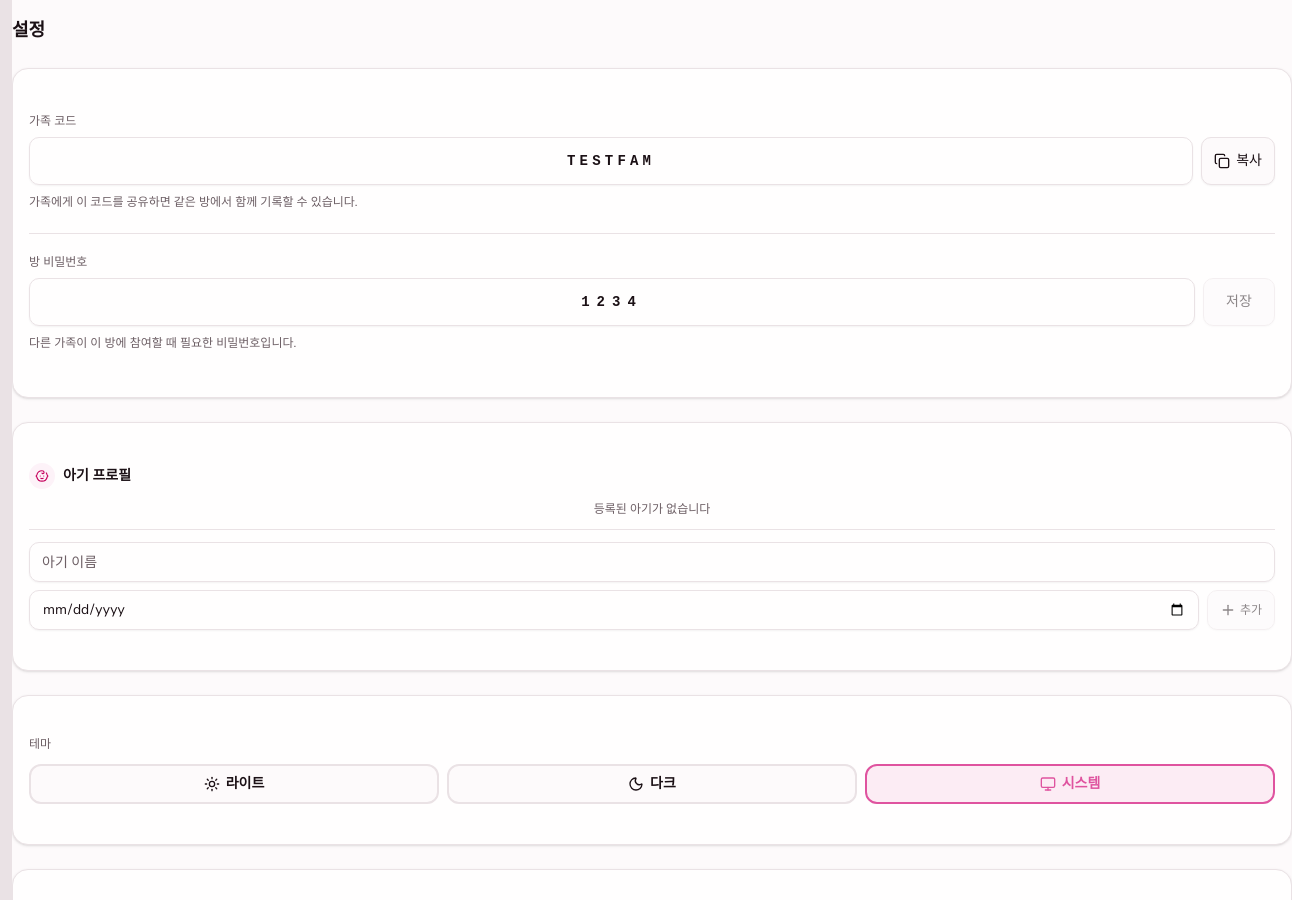
SettingsPage › shows 복사됨 after clicking copy button
The width and height of the screenshot is (1292, 900).
Click the button "복사". click: [1238, 161]
box: [1201,137,1275,185]
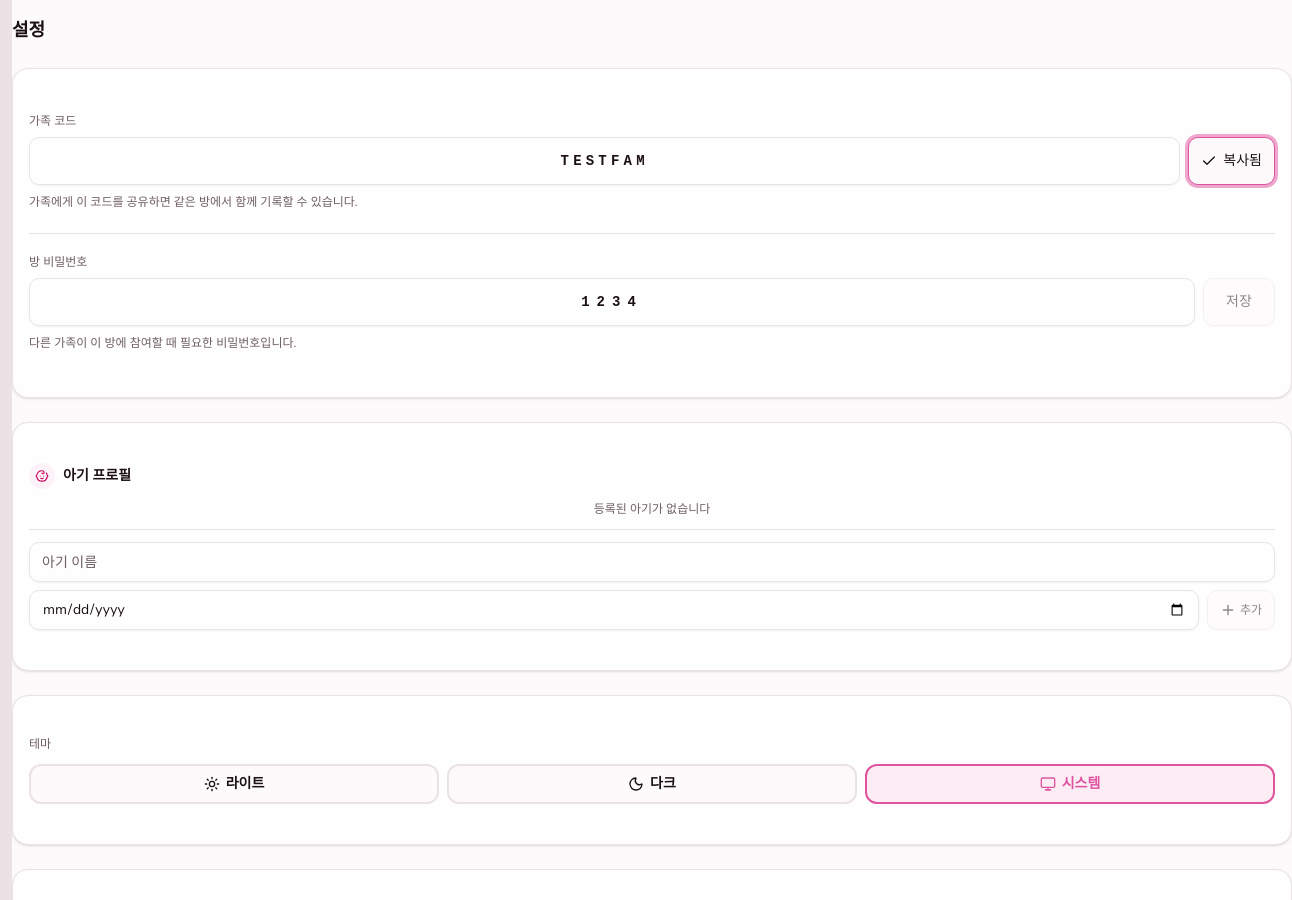
Now the button "복사됨" is shown, box [1188,137,1275,185]
